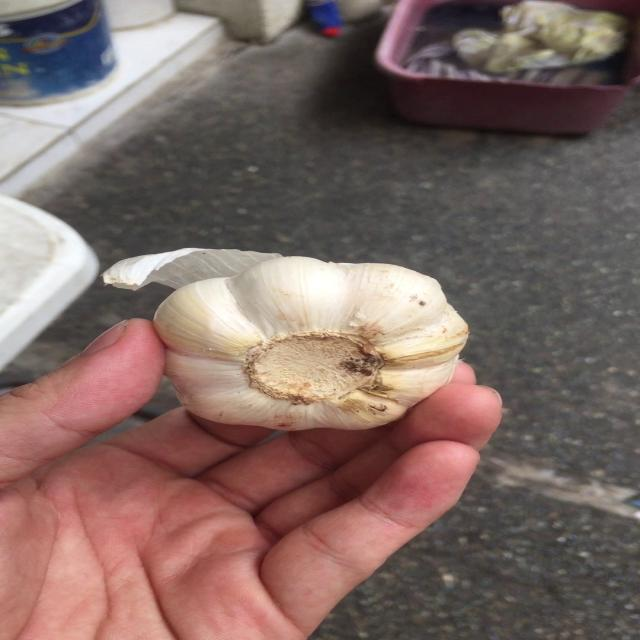garlic: (153, 252, 468, 438)
